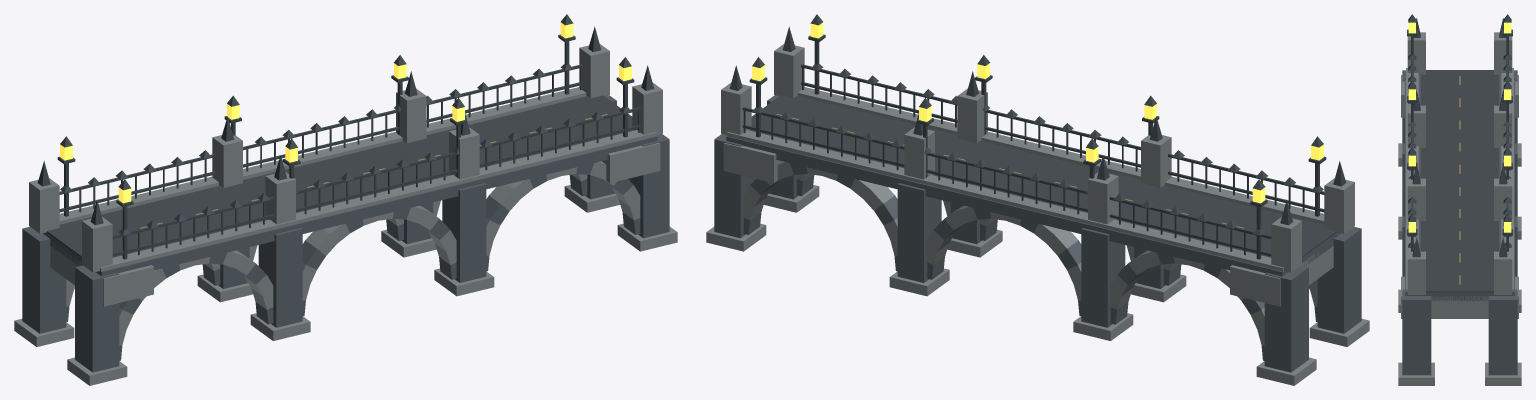
The model's file is bridge_blackgate_viaduct.glb.
The picture shows the model from 3 angles, left to right: view 1: azimuth 30°, elevation 25°; view 2: azimuth 150°, elevation 25°; view 3: azimuth 270°, elevation 25°; orthographic projection. The views are drawn at different scales.
Parts seen in each view (by area): view 1: Bridge_Blackgate_Viaduct; view 2: Bridge_Blackgate_Viaduct; view 3: Bridge_Blackgate_Viaduct.
Part boxes in pixels (x1,y1,x2,y2): Bridge_Blackgate_Viaduct: [14, 14, 677, 385]; Bridge_Blackgate_Viaduct: [706, 14, 1369, 385]; Bridge_Blackgate_Viaduct: [1398, 14, 1521, 385].
Size of the model in its own units: 21.15 by 6.53 by 4.7.
